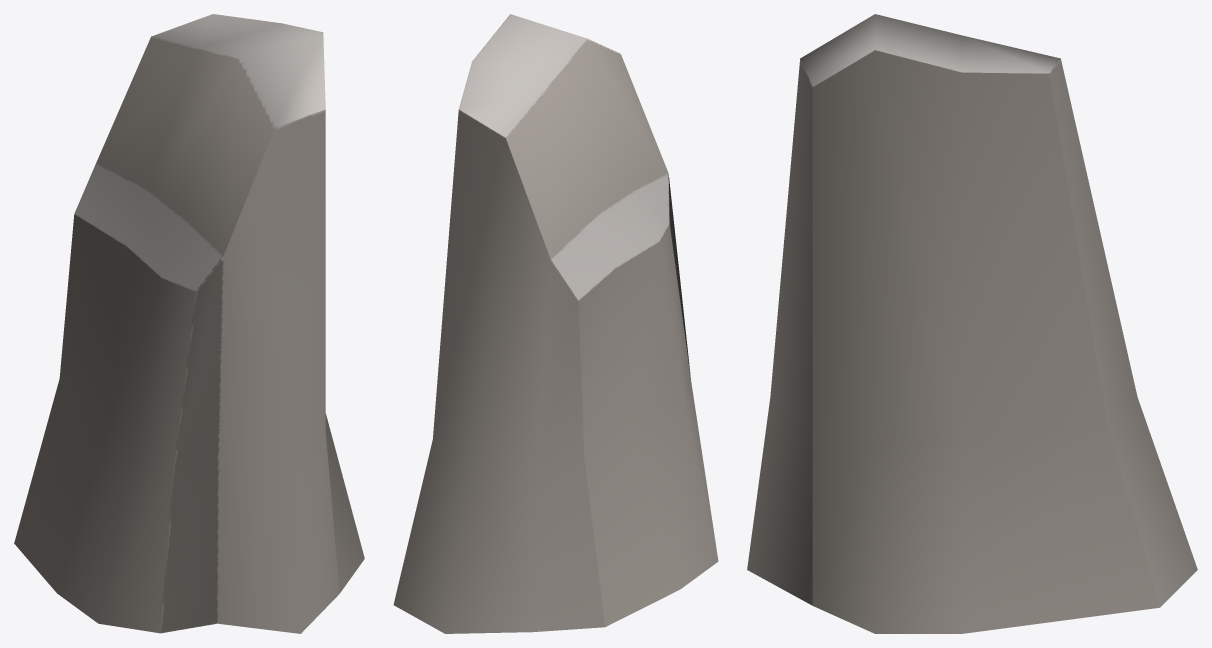
The model's file is cliff004.fbx.
3 views of the same model, side by side, from view 1: azimuth 30°, elevation 25°; view 2: azimuth 150°, elevation 25°; view 3: azimuth 270°, elevation 25° (orthographic). The views are drawn at different scales.
Visible parts, largest first — view 1: cliff4; view 2: cliff4; view 3: cliff4.
Part boxes in pixels (x1,y1,x2,y2): cliff4: (14, 14, 364, 633); cliff4: (393, 14, 718, 633); cliff4: (747, 14, 1197, 633).
Bounding box in the file's own units: 42.11 × 81.04 × 58.87.
